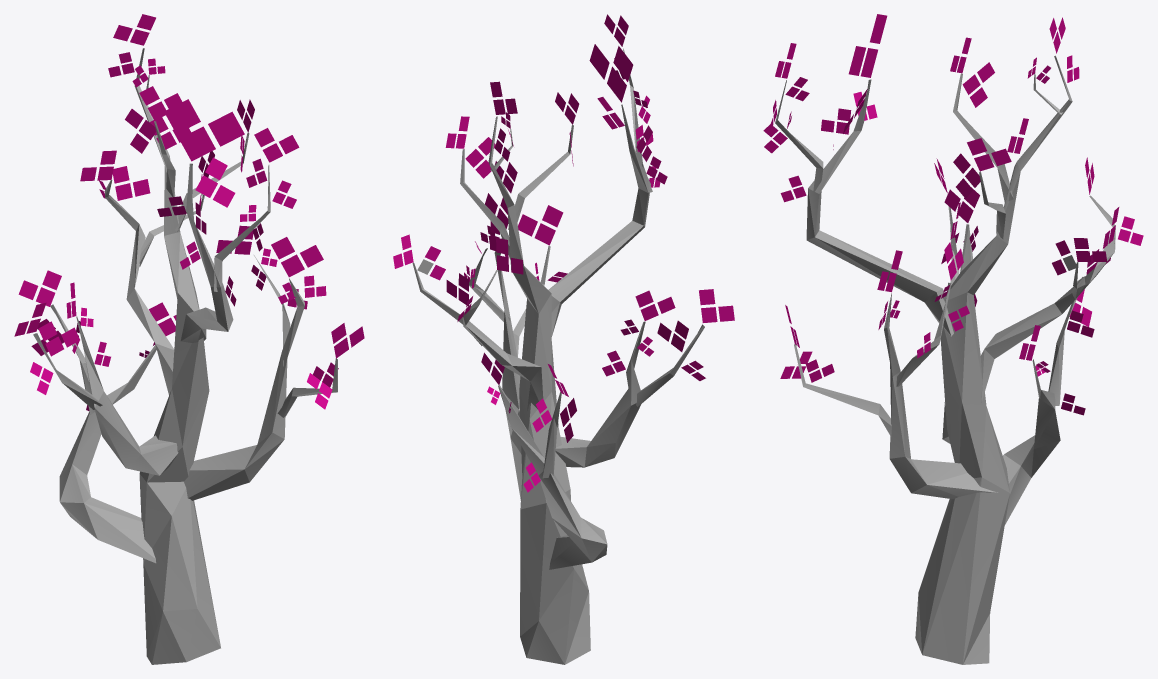
Rendered from Deeptree03_LOD-02.fbx.
3 renders of one model, left to right at view 1: azimuth 30°, elevation 25°; view 2: azimuth 150°, elevation 25°; view 3: azimuth 270°, elevation 25°, orthographic. The views are drawn at different scales.
Visible parts, largest first — view 1: Deeptree03_LOD_01.001; view 2: Deeptree03_LOD_01.001; view 3: Deeptree03_LOD_01.001.
Boxes of the visible parts, x1,y1,x2,y2 form: Deeptree03_LOD_01.001: (14,14,364,664); Deeptree03_LOD_01.001: (393,14,734,664); Deeptree03_LOD_01.001: (763,14,1143,664).
Bounding box in the file's own units: 155 × 316 × 169.
